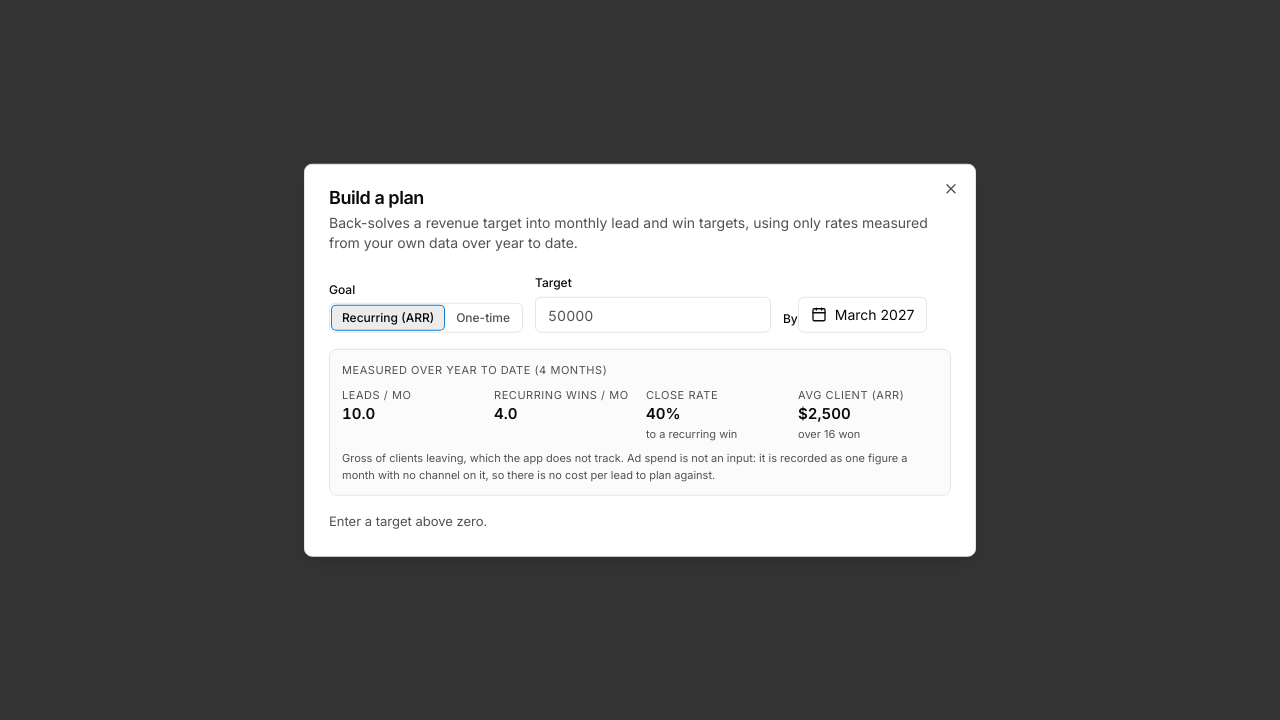
Test case: GoalBuilderDialog › refuses the target -50000 instead of reading it as another number
Type "-50000" into the field labelled "Target".
click(653, 315); type("-50000")  # box [535, 297, 771, 333]
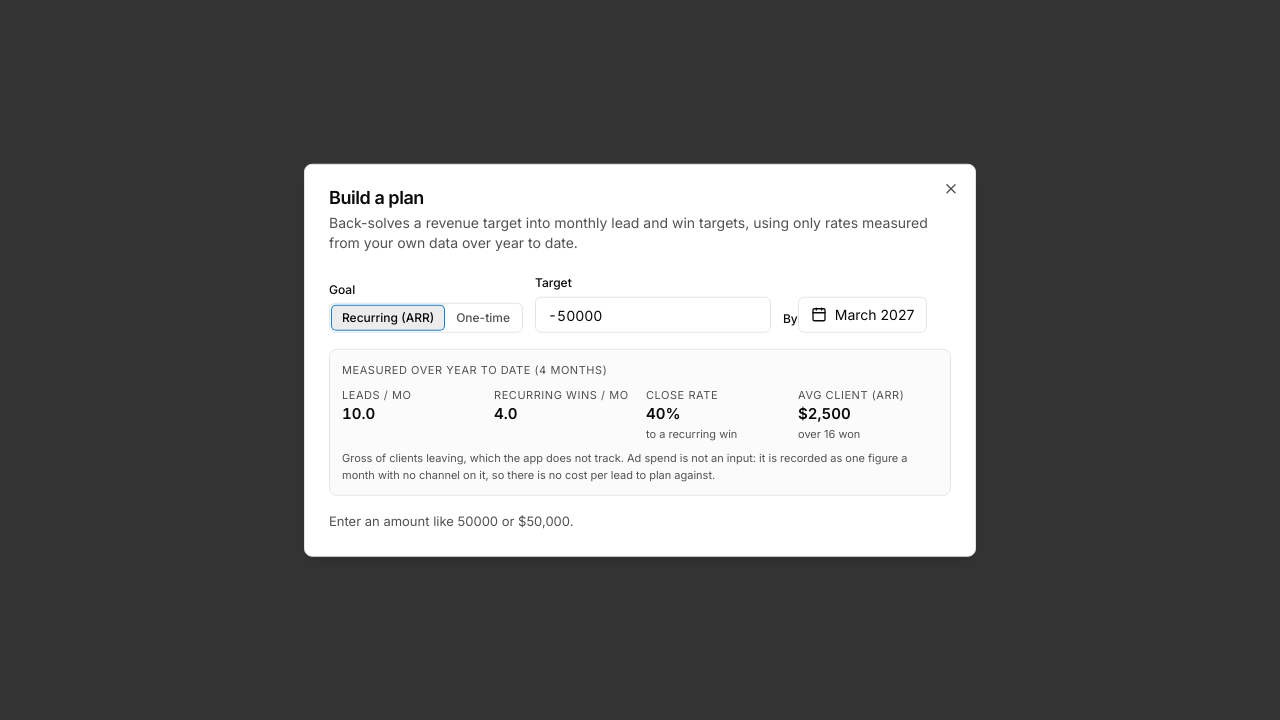
Expected: the text "Enter an amount like 50000 or $50,000." is shown, [329, 513, 573, 529]
